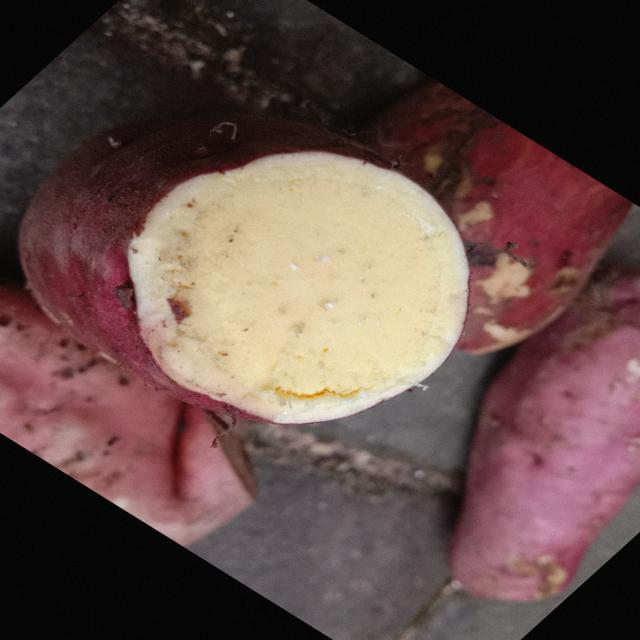Healthy Sweet Potato: (128, 152, 468, 422)
